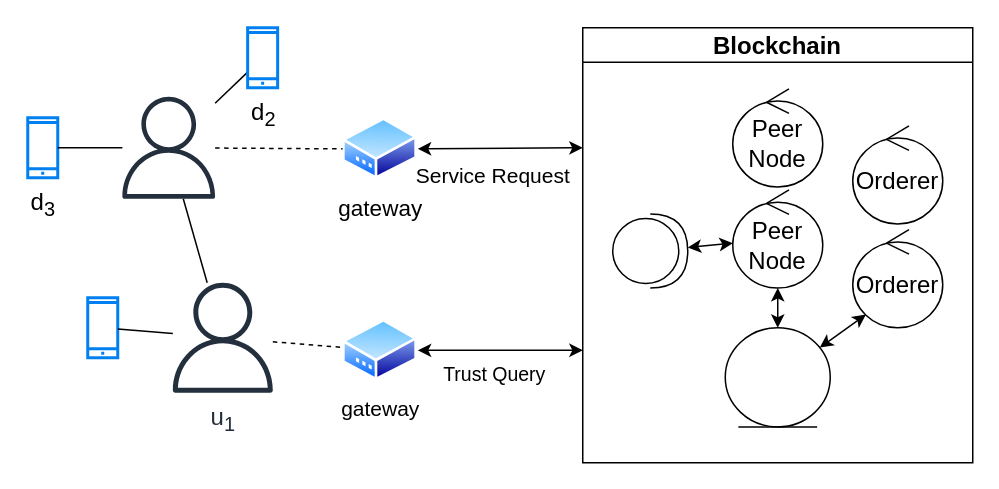
Image size: 999x489. Some labels were removed from this diagram. Each missing label, with the centre of its shape:
"BC Channel" belongs at pixel 777 376.
"d 1" belongs at pixel 102 327.
"Smart Contract" belongs at pixel 649 250.
"u 2" belongs at pixel 168 147.
